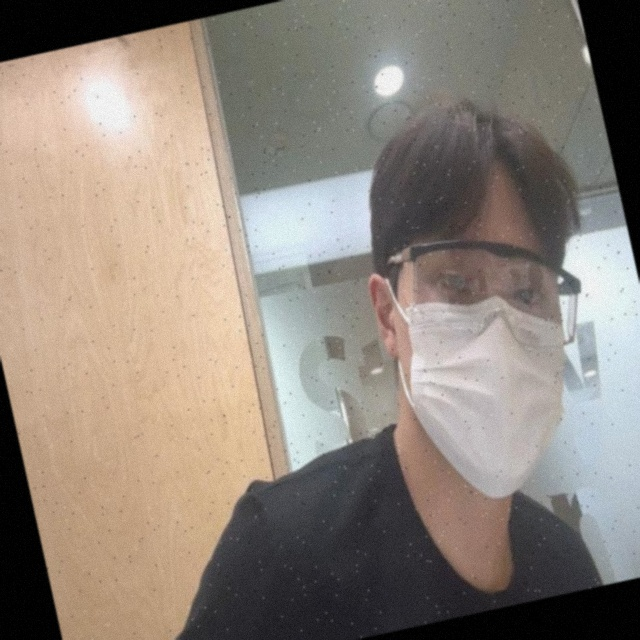goggles_on: (371, 204, 601, 513), (373, 196, 599, 386)
